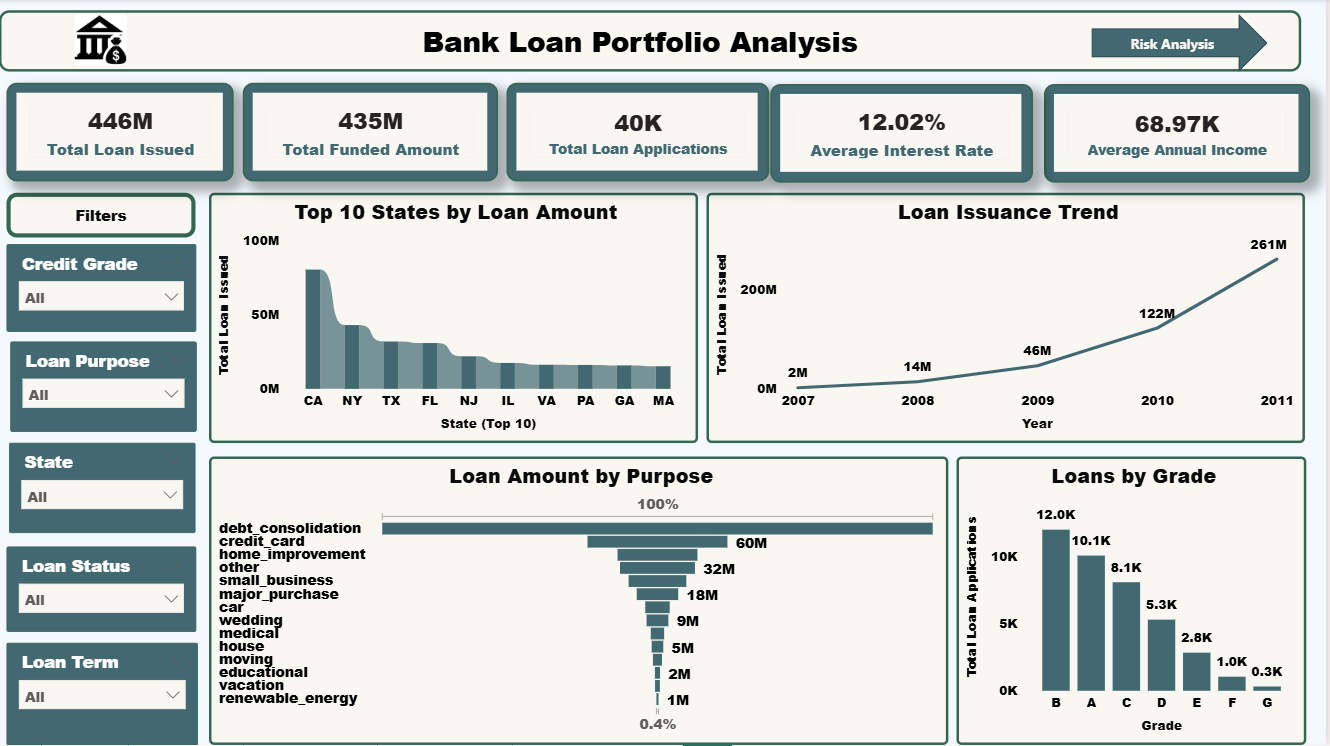

The dashboard page shown, as its layout file describes it:
{"tool":"powerbi","page":{"name":" Overview","canvas":[1280,720],"ordinal":1},"visuals":[{"type":"funnel","title":"Loan Amount by Purpose","fields":{"Category":["bank finance_master.purpose"],"Y":["bank finance_master.Total Loan Amount"]},"box":[202.4,442,713.9,278.1],"z":0},{"type":"columnChart","title":"Loans by Grade","fields":{"Category":["bank finance_master.grade"],"Y":["bank finance_master.Loans"]},"box":[923.7,442,337.7,278.1],"z":1000},{"type":"lineChart","title":"Loan Issuance Trend","fields":{"Y":["bank finance_master.Total Loan Amount"],"Category":["bank finance_master.issue_d.Variation.Date Hierarchy.Year"]},"box":[682.8,187,577.9,241.3],"z":2000},{"type":"ribbonChart","title":"Top 10 States by Loan Amount","fields":{"Category":["bank finance_master.addr_state"],"Y":["bank finance_master.Total Loan Amount"]},"box":[202.7,187,471.7,241.3],"z":3000},{"type":"slicer","fields":{"Values":["bank finance_master.grade"]},"box":[7.2,236.5,183.4,84.5],"z":4000},{"type":"slicer","fields":{"Values":["bank finance_master.loan_status"]},"box":[7.2,528.4,183.4,82],"z":5000},{"type":"slicer","fields":{"Values":["bank finance_master.purpose"]},"box":[10.9,330.6,179.8,86.9],"z":6000},{"type":"slicer","fields":{"Values":["bank finance_master.term"]},"box":[7.4,620.8,185,99.3],"z":7000},{"type":"slicer","fields":{"Values":["bank finance_master.addr_state"]},"box":[9.7,428.3,179.8,86.9],"z":8000},{"type":"textbox","box":[0,11.2,1256.4,59.5],"z":9000},{"type":"cardVisual","fields":{"Data":["bank finance_master.Total Loan Amount"]},"box":[7.2,80.8,219.6,95.3],"z":9000,"group":"g1"},{"type":"textbox","box":[7.2,187,182.2,43.4],"z":10000},{"type":"group","id":"g1","title":"Group 1","box":[7.2,80.8,1258.6,96.6],"z":11000},{"type":"cardVisual","fields":{"Data":["bank finance_master.Total Funded Amount"]},"box":[234.9,81,246.1,95.3],"z":11000,"group":"g1"},{"type":"image","box":[65.7,14.9,65.7,49.6],"z":12000},{"type":"cardVisual","fields":{"Data":["bank finance_master.Total Customers"]},"box":[489.5,81,253.4,95.3],"z":12000,"group":"g1"},{"type":"shape","box":[1054.3,14.9,169.9,55.8],"z":13000},{"type":"cardVisual","fields":{"Data":["bank finance_master.Average Annual Income"]},"box":[1008.8,81.9,257,95.4],"z":13000,"group":"g1"},{"type":"cardVisual","fields":{"Data":["bank finance_master.Average Interest Rate"]},"box":[744.6,81.9,253.4,95.4],"z":14000,"group":"g1"}]}

Visuals, with their boxes in screenshot pixels (x1, y1, x2, y2), scaled from the page's 1280x720 canvas onto the 1330x746 screenshot:
"Loan Amount by Purpose" funnel: select_region(210, 458, 952, 745)
"Loans by Grade" columnChart: select_region(960, 458, 1311, 745)
"Loan Issuance Trend" lineChart: select_region(709, 194, 1310, 444)
"Top 10 States by Loan Amount" ribbonChart: select_region(211, 194, 701, 444)
slicer - bank finance_master.grade: select_region(7, 245, 198, 333)
slicer - bank finance_master.loan_status: select_region(7, 547, 198, 632)
slicer - bank finance_master.purpose: select_region(11, 343, 198, 433)
slicer - bank finance_master.term: select_region(8, 643, 200, 745)
slicer - bank finance_master.addr_state: select_region(10, 444, 197, 534)
textbox: select_region(0, 12, 1305, 73)
cardVisual - bank finance_master.Total Loan Amount: select_region(7, 84, 236, 182)
textbox: select_region(7, 194, 197, 239)
"Group 1" group: select_region(7, 84, 1315, 184)
cardVisual - bank finance_master.Total Funded Amount: select_region(244, 84, 500, 183)
image: select_region(68, 15, 137, 67)
cardVisual - bank finance_master.Total Customers: select_region(509, 84, 772, 183)
shape: select_region(1095, 15, 1272, 73)
cardVisual - bank finance_master.Average Annual Income: select_region(1048, 85, 1315, 184)
cardVisual - bank finance_master.Average Interest Rate: select_region(774, 85, 1037, 184)
